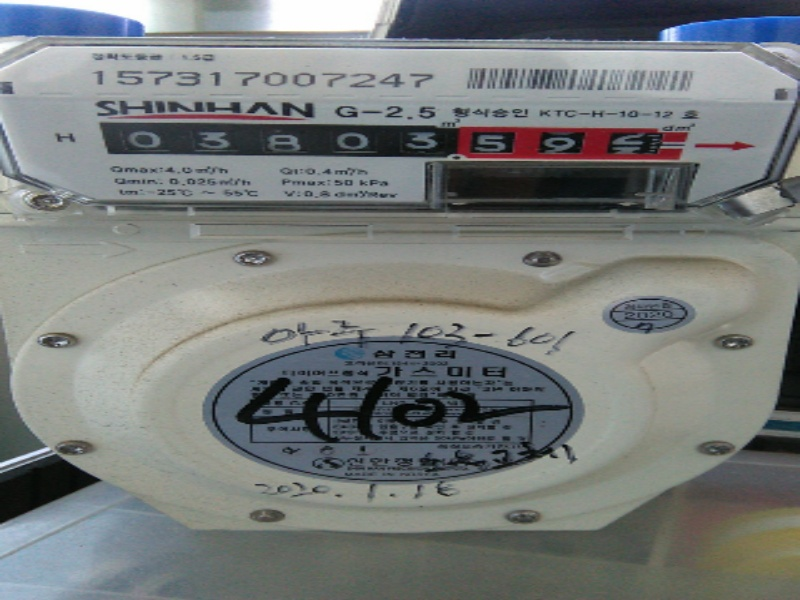meter: (4, 22, 800, 228)
